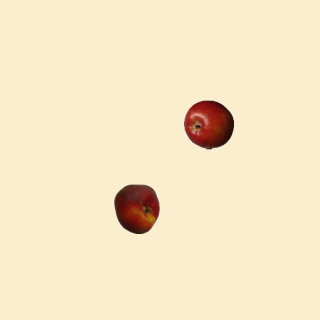Apple Braeburn: (183, 99, 233, 149)
Nectarine Flat: (111, 183, 161, 233)
